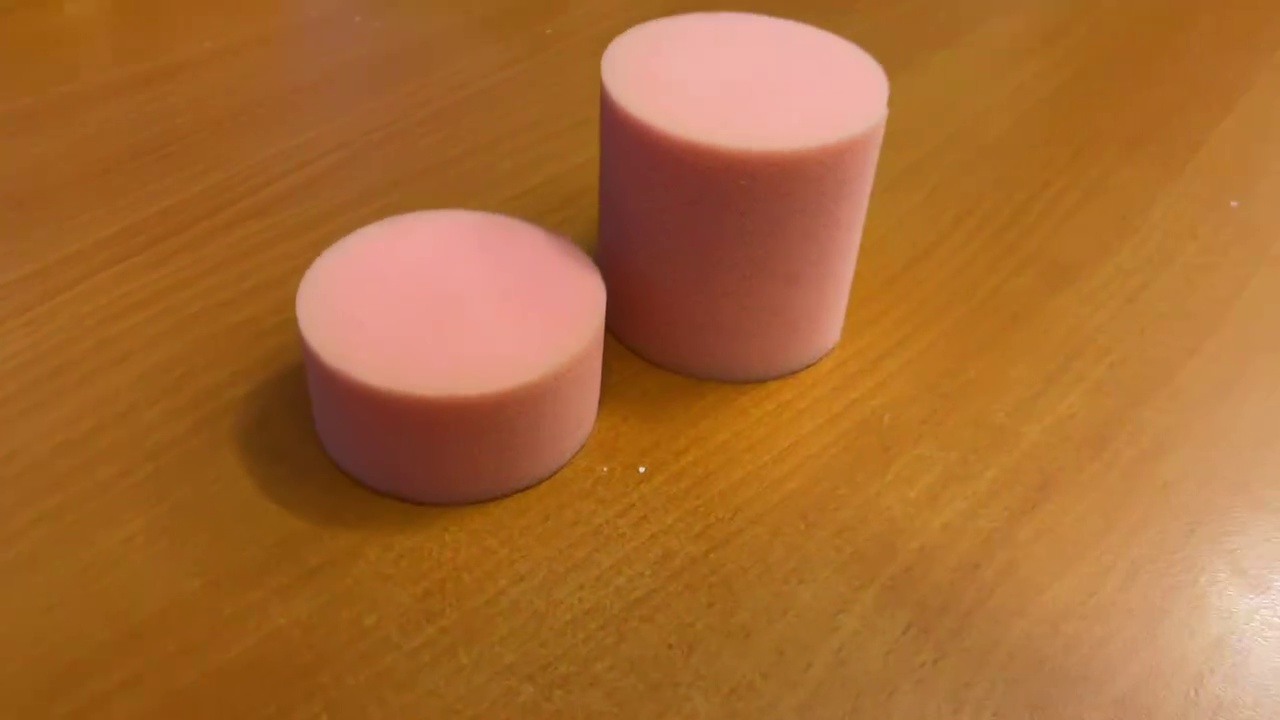Clyinder_short: (287, 205, 613, 505)
Cylinder: (589, 7, 896, 388)
